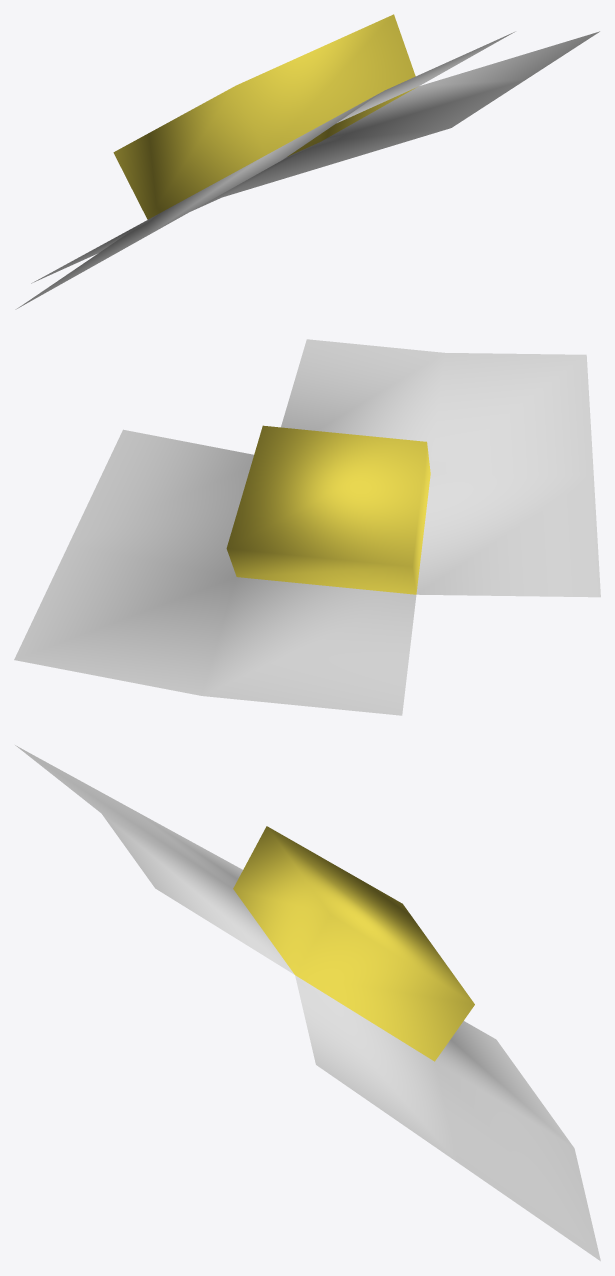
The model's file is SpaceShipNewPiace.fbx.
The picture shows the model from 3 angles, top to bottom: view 1: azimuth 30°, elevation 25°; view 2: azimuth 150°, elevation 25°; view 3: azimuth 270°, elevation 25°; orthographic projection. The views are drawn at different scales.
Visible parts, largest first — view 1: Sphere.002; view 2: Sphere.002; view 3: Sphere.002.
Part boxes in pixels (x1,y1,x2,y2): Sphere.002: (15,14,599,309); Sphere.002: (14,339,600,715); Sphere.002: (15,745,600,1261).
Bounding box in the file's own units: 60.12 × 51.61 × 28.63.
